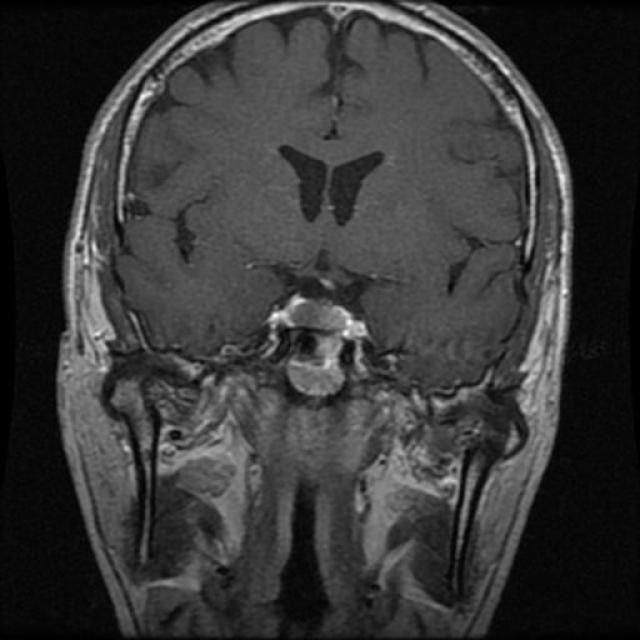pituitary: (258, 270, 376, 403)
